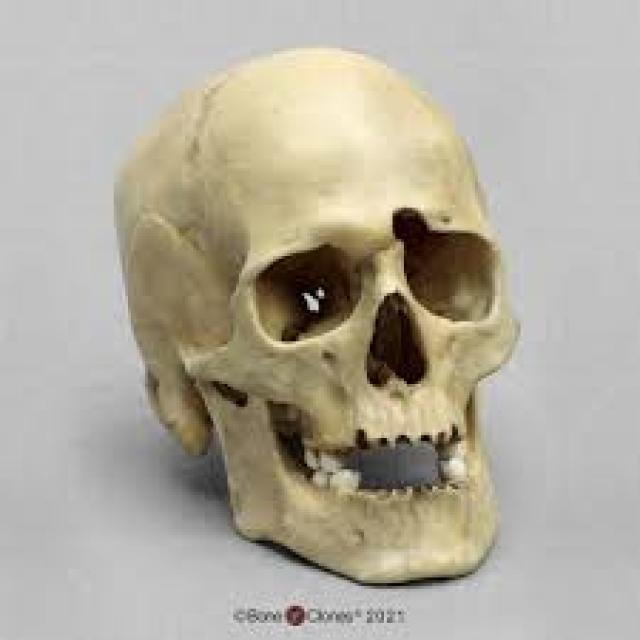skull: (105, 31, 547, 596)
